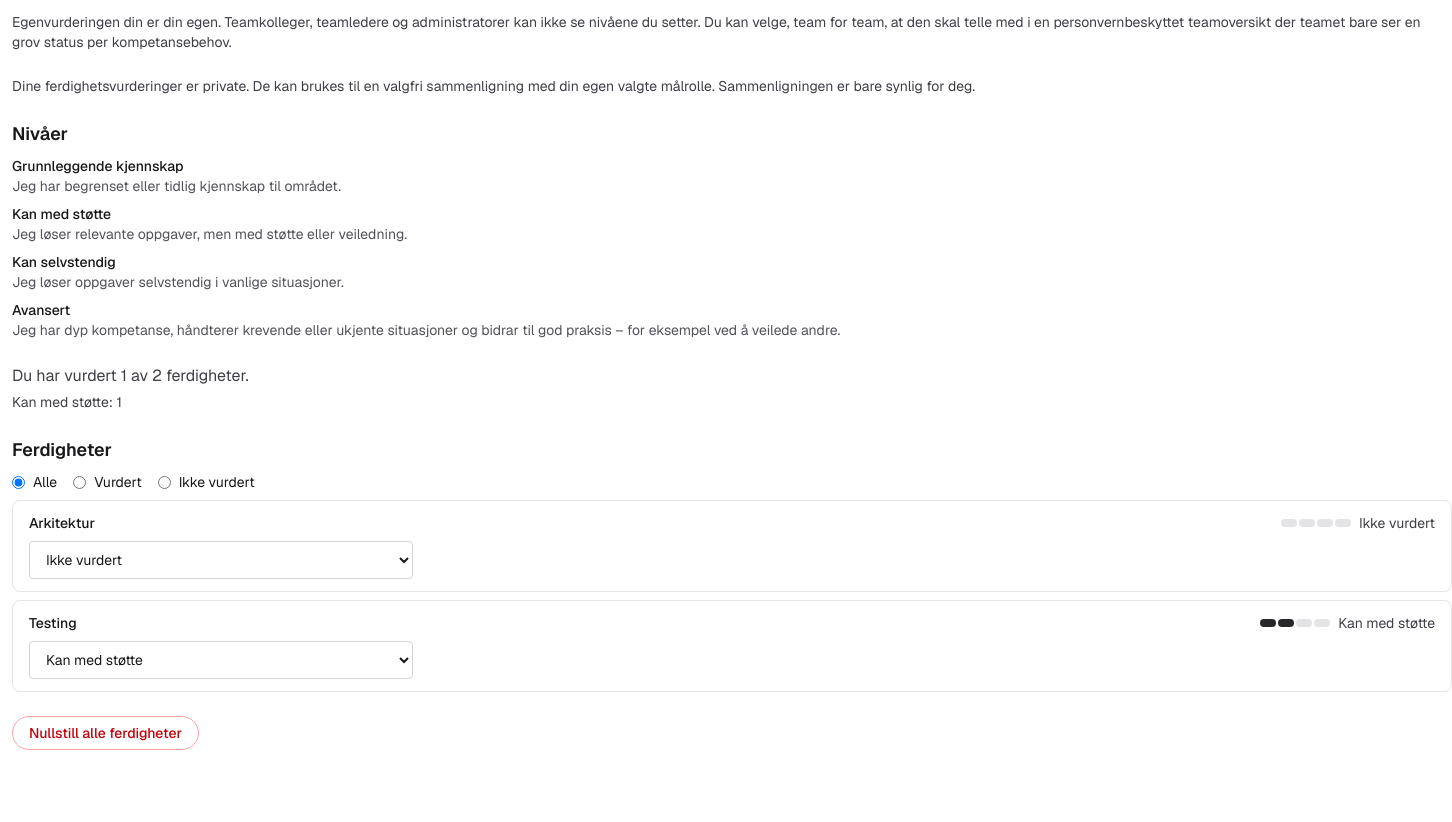
Test case: SkillProfilePage — level select (TASK-008) › choosing 'Ikke vurdert' uses DELETE-one (never PUT) and the row becomes unassessed
Check: the text "Egenvurderingen din er din egen" is shown, box [12,13,1420,51]
Select "Ikke vurdert" in the dropdown labelled "Testing": (221, 660) [29,641,413,679]
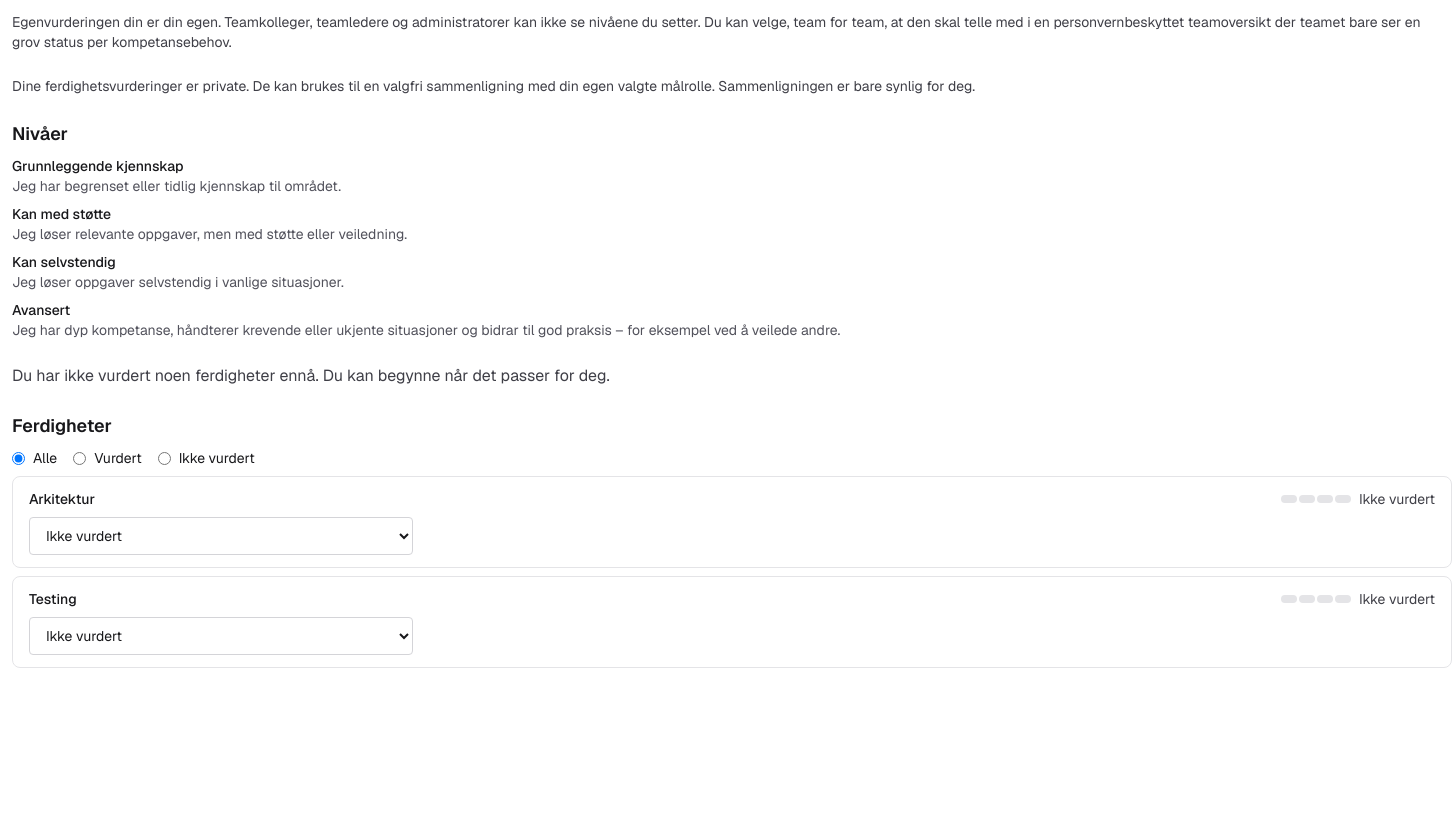
Check: the text "Du har ikke vurdert noen ferdigheter ennå" is shown, box [12,365,610,386]
